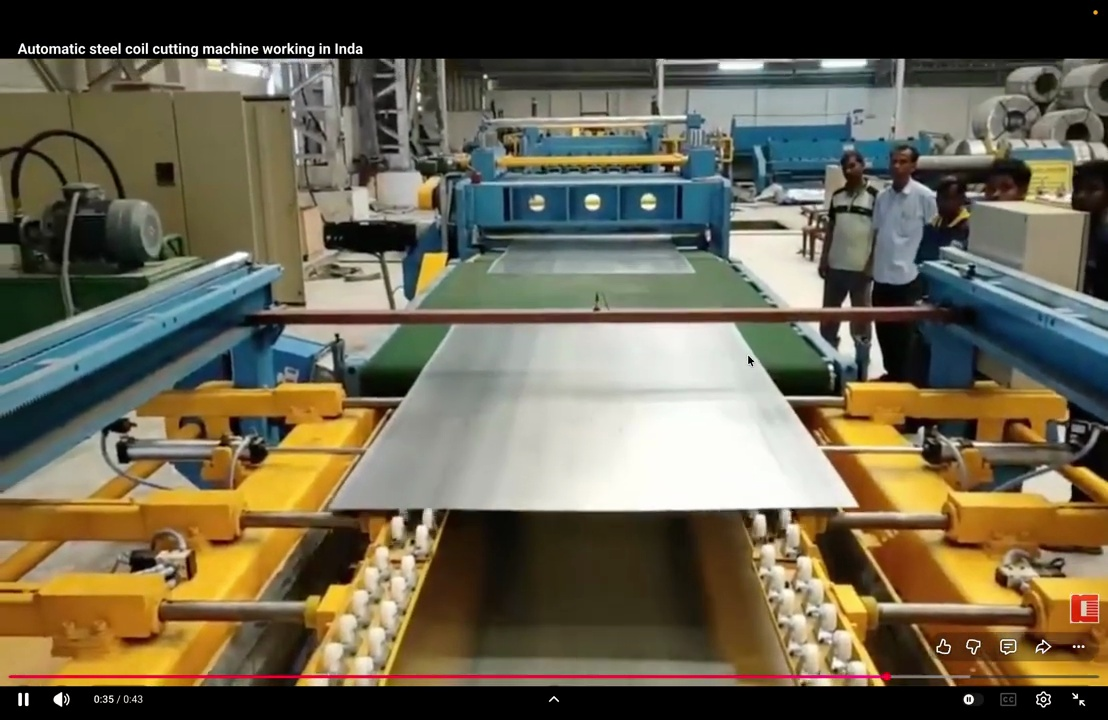steel plate: (331, 325, 855, 511), (489, 240, 693, 274)
